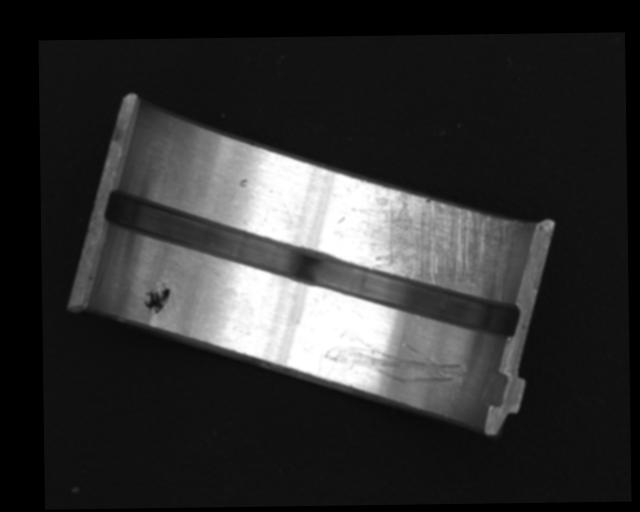blot: (142, 281, 170, 314)
bruise: (238, 177, 249, 189)
gap: (100, 183, 521, 342)
nick: (322, 331, 464, 387)
scratch: (349, 175, 518, 303)
